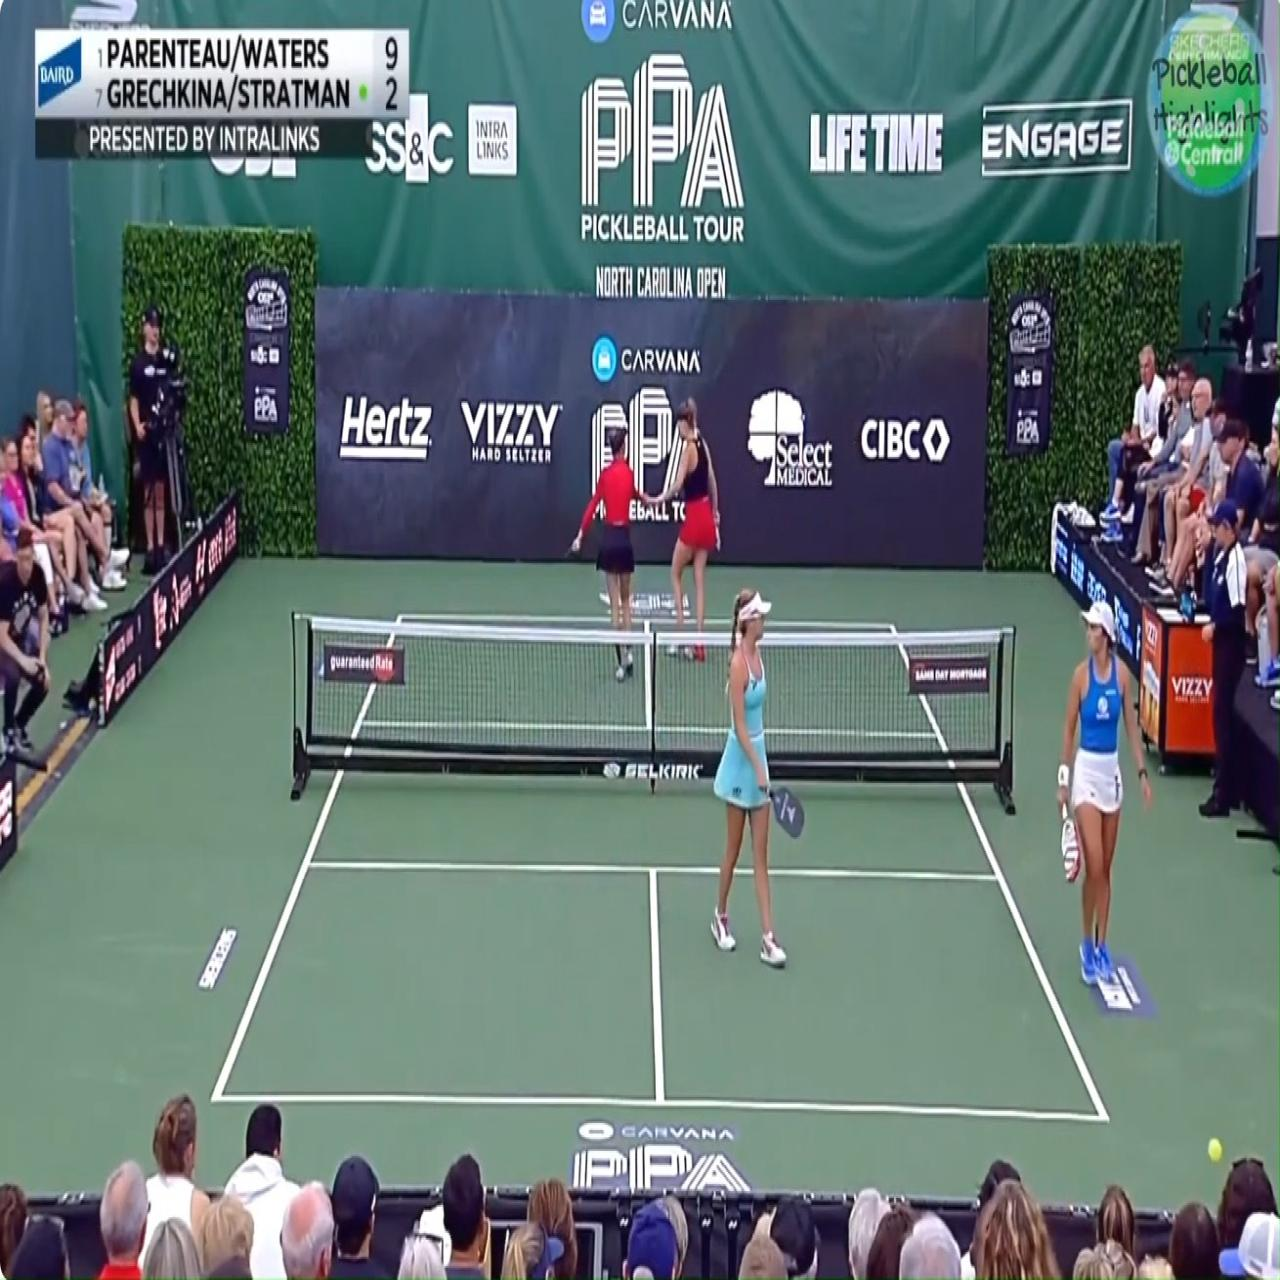pickleball: (1206, 1136, 1224, 1165)
